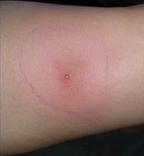Spider: (16, 28, 120, 120)
